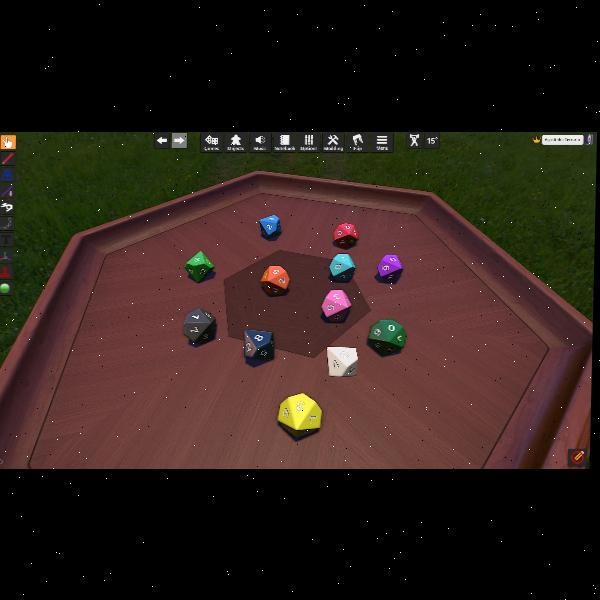d10: (277, 392, 321, 436), (368, 320, 405, 354), (183, 308, 217, 344), (243, 328, 274, 360), (185, 250, 215, 282), (326, 346, 358, 376), (261, 264, 290, 296), (322, 290, 352, 320), (329, 253, 357, 281), (377, 253, 403, 281), (258, 214, 282, 238), (334, 222, 358, 246)
